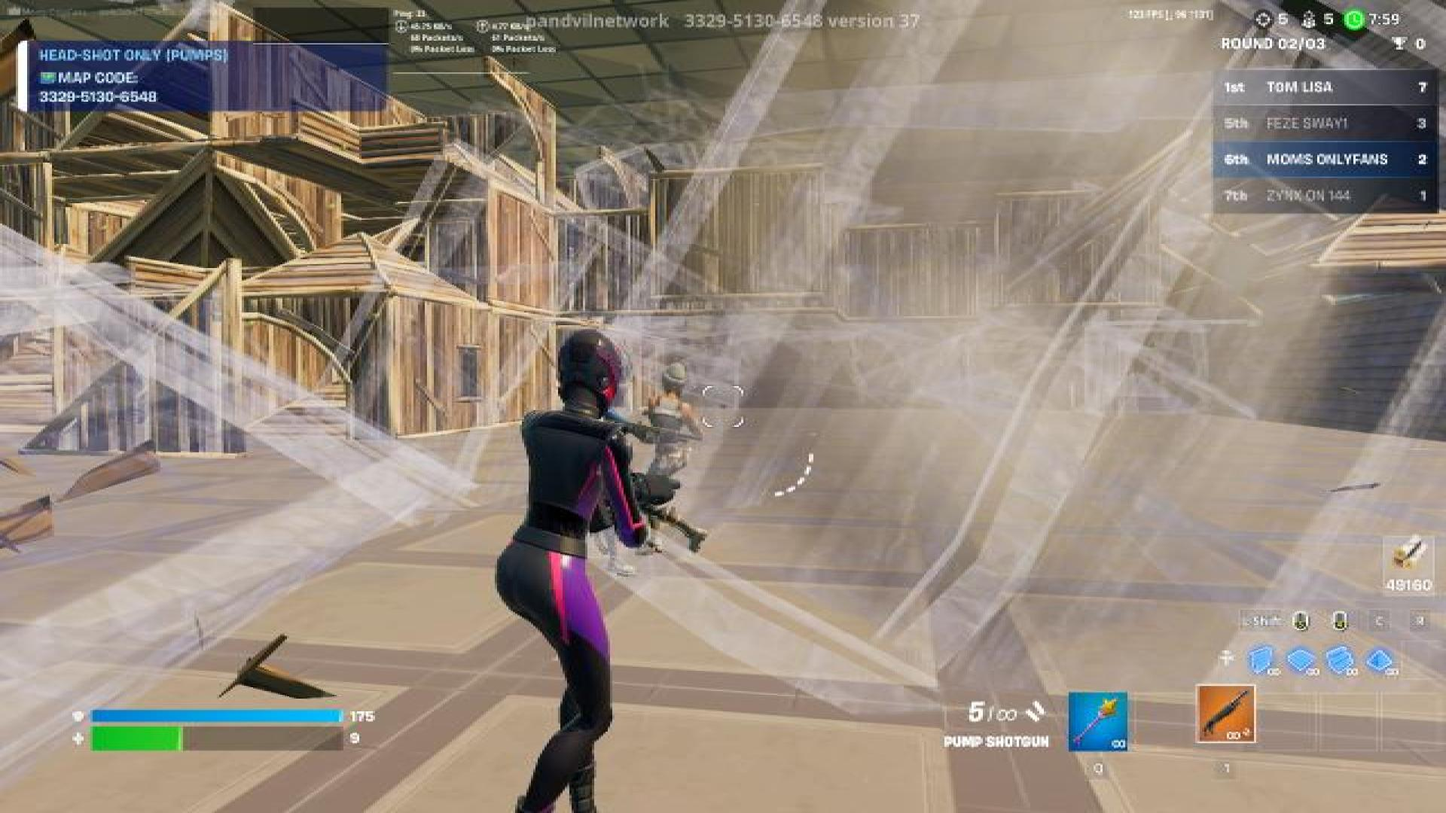player: (635, 363, 714, 560)
